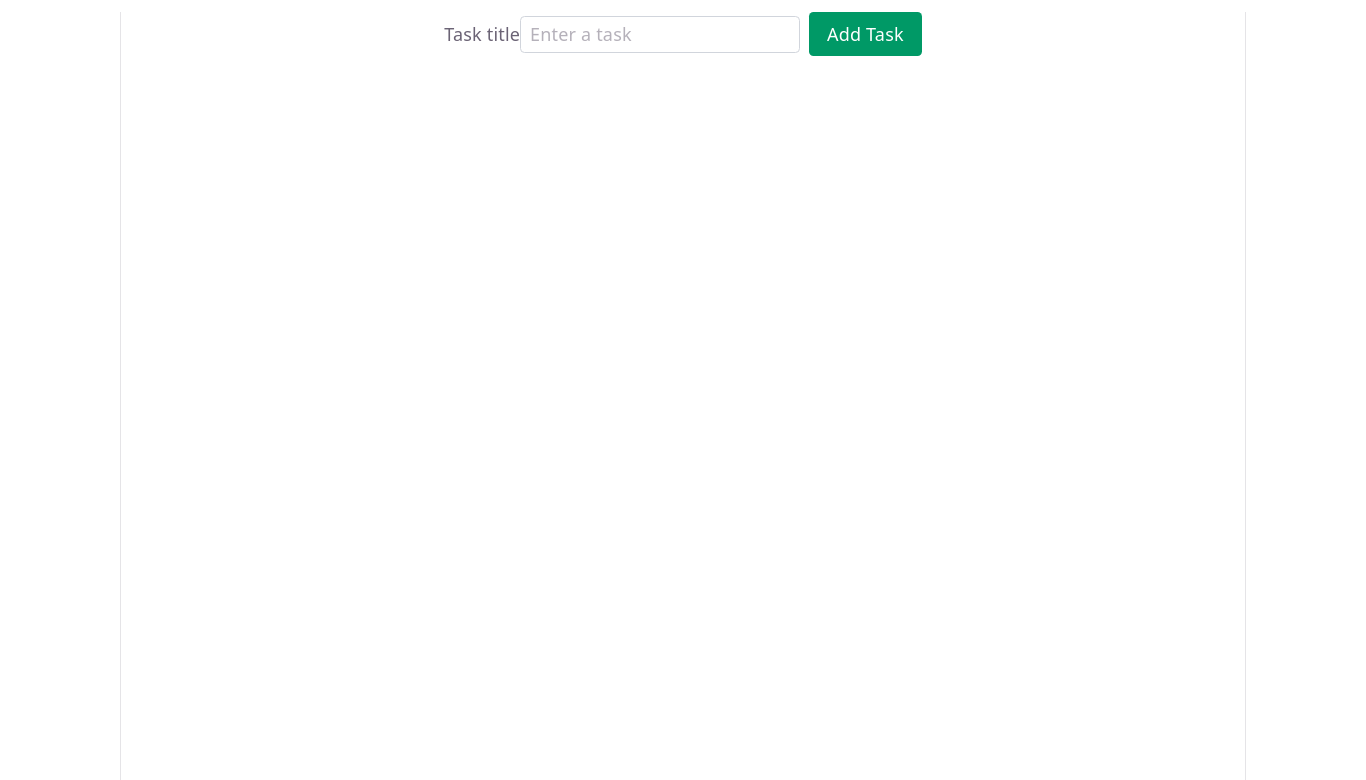
Test: TaskForm › should clear the input after a task is submitted
This screenshot has width=1366, height=780.
Step 1. Type "Learn React Testing" into the field labelled "Task title" → (660, 34), box [520,16,800,53]
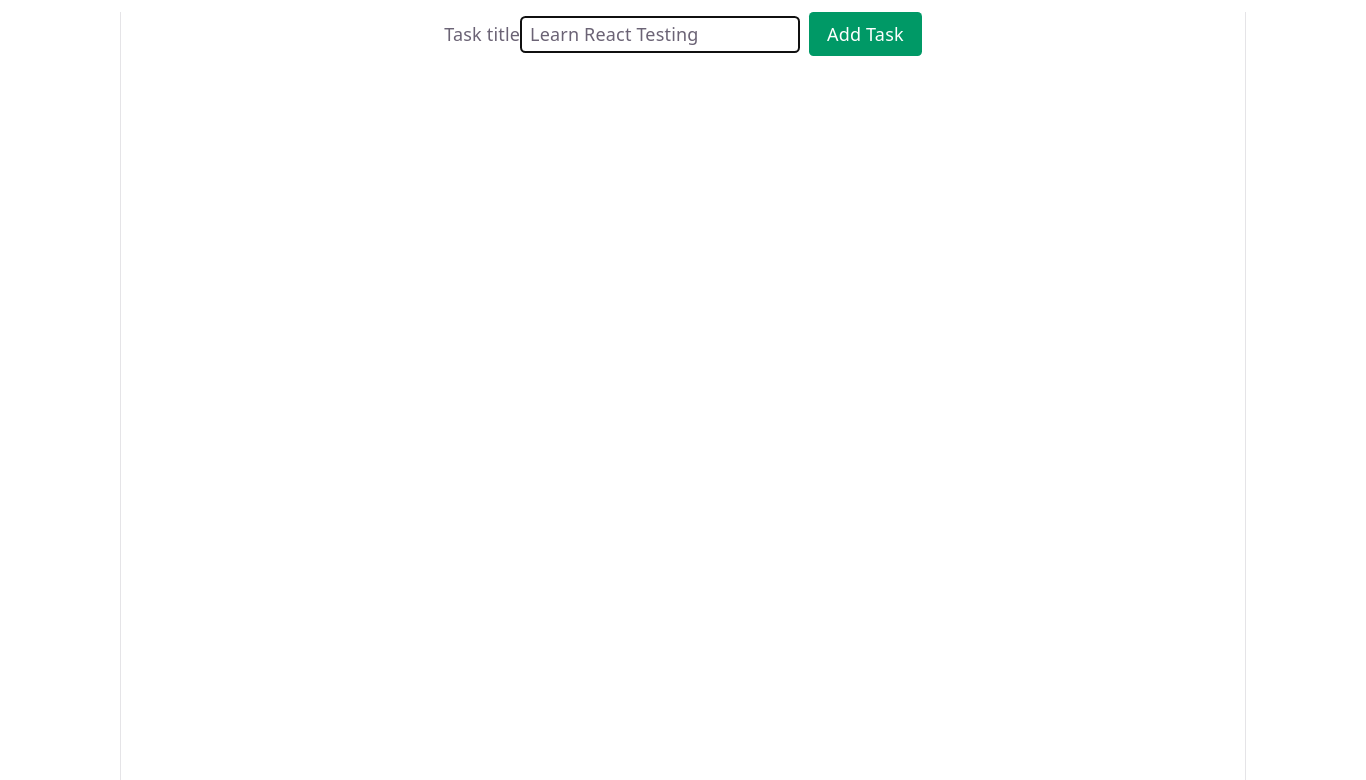
Step 2. Click the button "Add Task" → (865, 34), box [809,12,922,56]
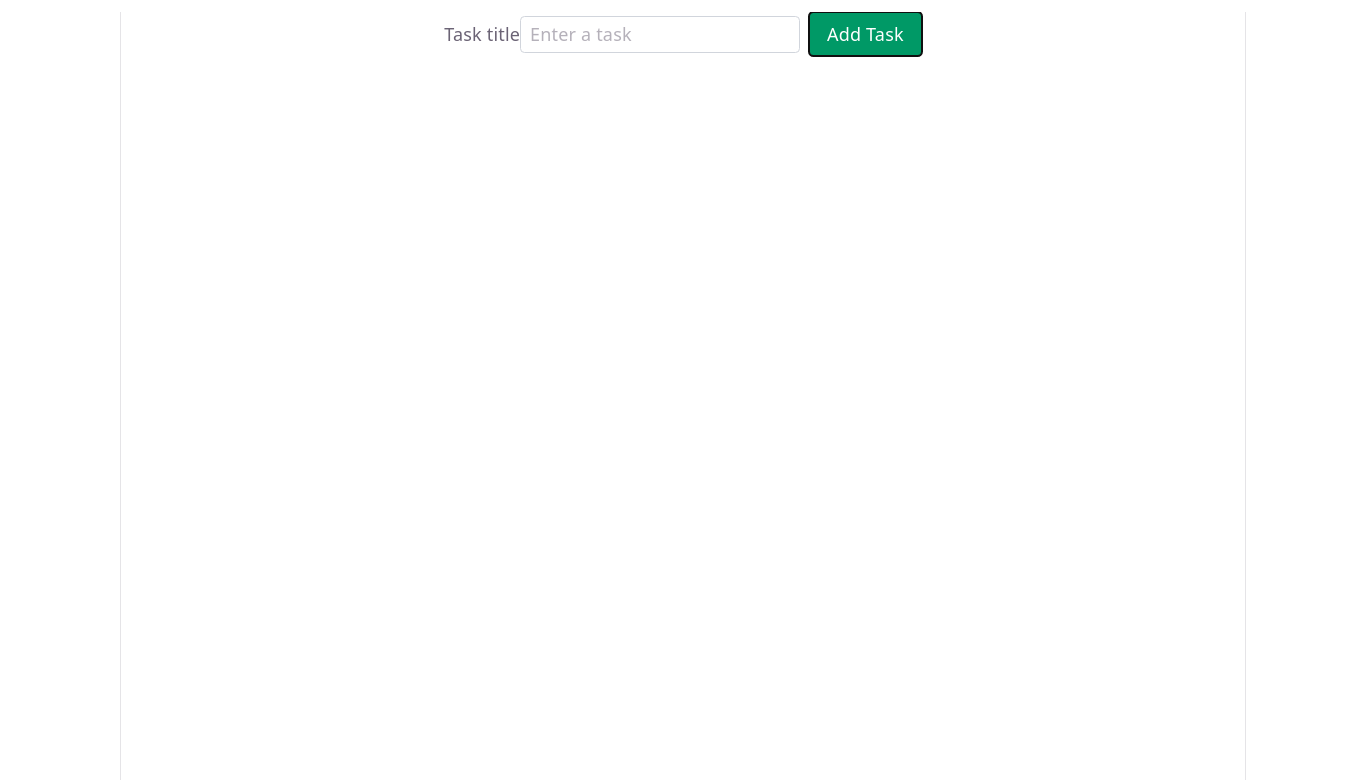
Result: the field labelled "Task title" is empty at [520,16,800,53]
